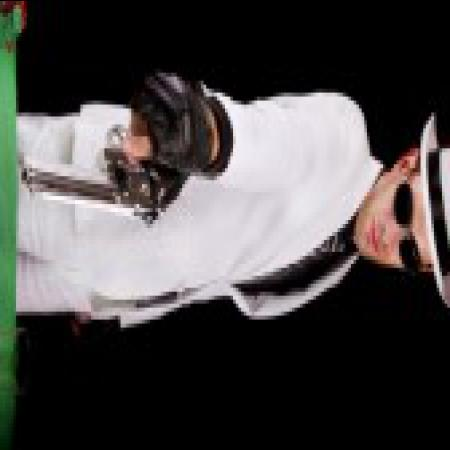Pistol: (27, 107, 185, 235)
